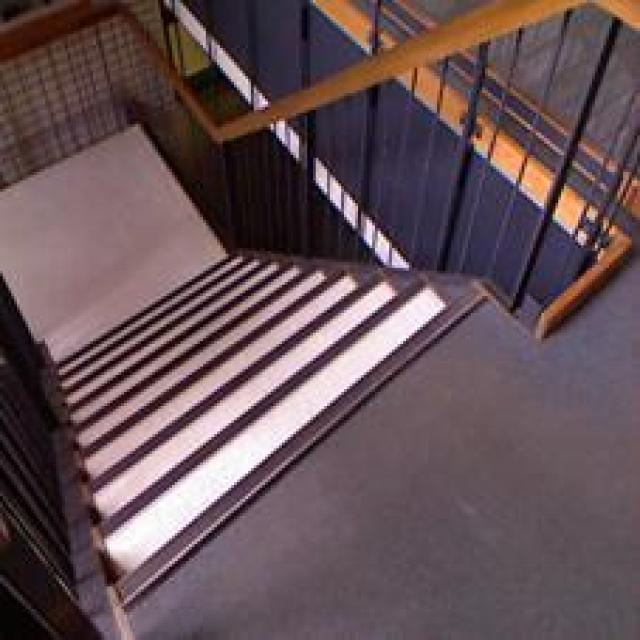downstair: (105, 354, 472, 619)
